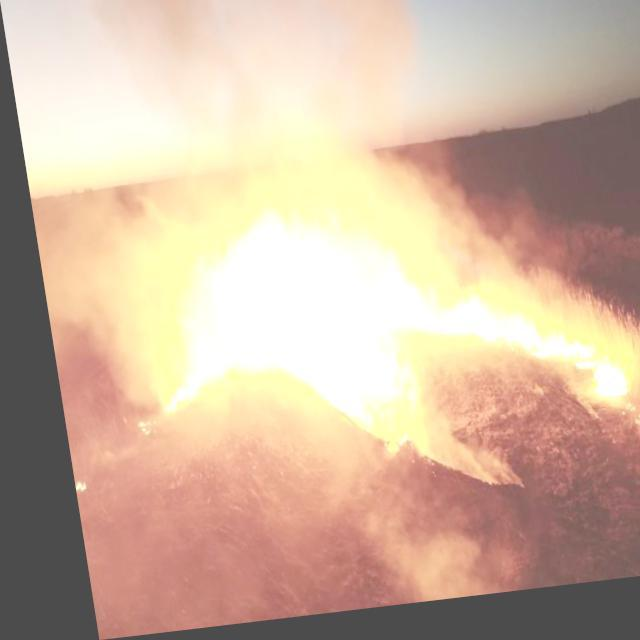Fire: (113, 188, 624, 474)
